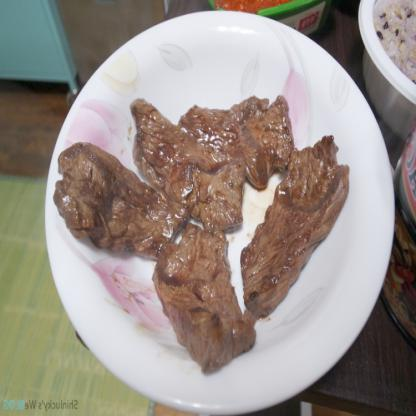Carne: (238, 135, 345, 320), (129, 98, 246, 226), (155, 228, 254, 373), (54, 145, 181, 258), (179, 88, 289, 191)
